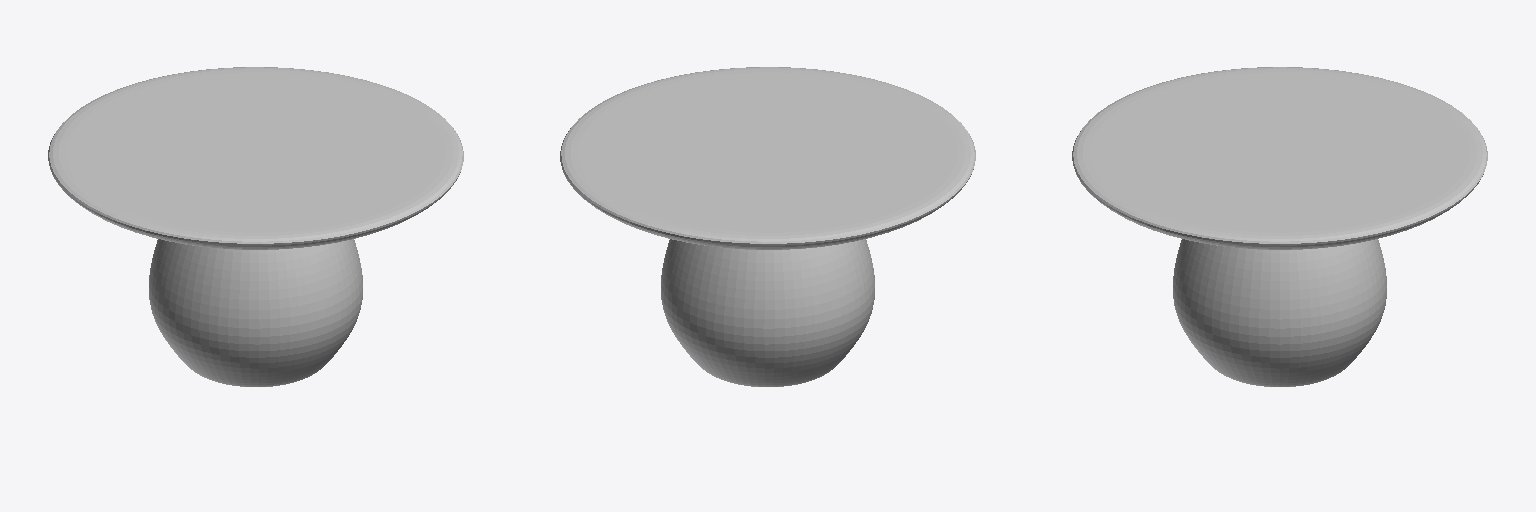
Rendered from cofee-table.obj.
3 views of the same model, side by side, from view 1: azimuth 30°, elevation 25°; view 2: azimuth 150°, elevation 25°; view 3: azimuth 270°, elevation 25° (orthographic).
Parts seen in each view (by area): view 1: Circle.001, Circle; view 2: Circle.001, Circle; view 3: Circle.001, Circle.
Boxes of the visible parts, <box> form: Circle.001: <box>48,67,463,249</box>; Circle: <box>149,239,362,386</box>; Circle.001: <box>560,67,975,249</box>; Circle: <box>661,239,874,386</box>; Circle.001: <box>1072,67,1487,249</box>; Circle: <box>1173,239,1386,386</box>.
Bounding box in the file's own units: 0.6527 × 0.3584 × 0.6527.